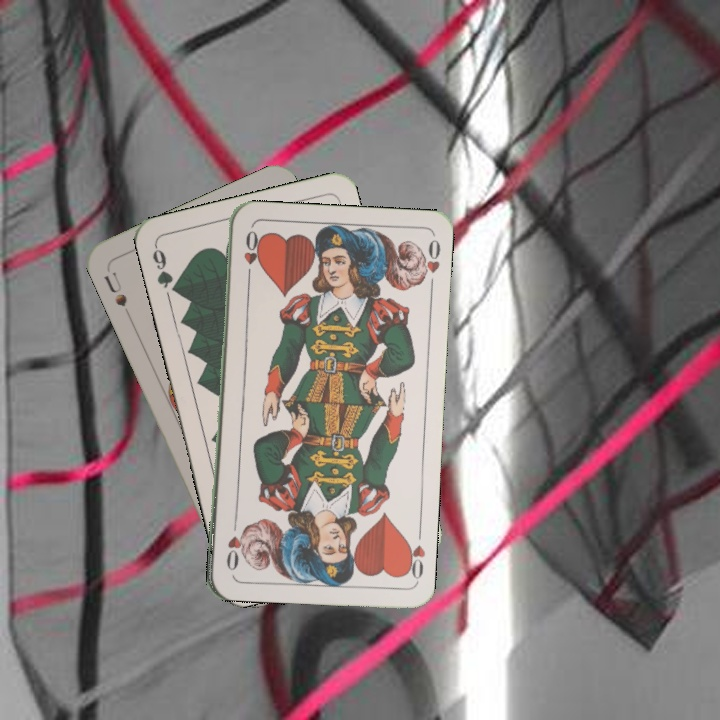G9: (148, 242, 183, 297)
HO: (400, 525, 428, 584), (239, 226, 259, 285)
SU: (99, 267, 130, 309)
